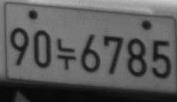0: (32, 29, 52, 68)
5: (151, 39, 172, 78)
6: (80, 33, 101, 73)
7: (102, 35, 124, 75)
8: (126, 36, 147, 78)
9: (9, 26, 29, 66)
누: (56, 38, 76, 70)
